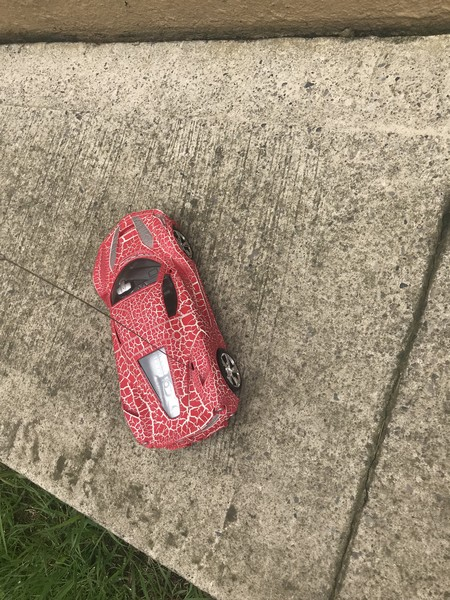RC: (90, 206, 245, 451)
